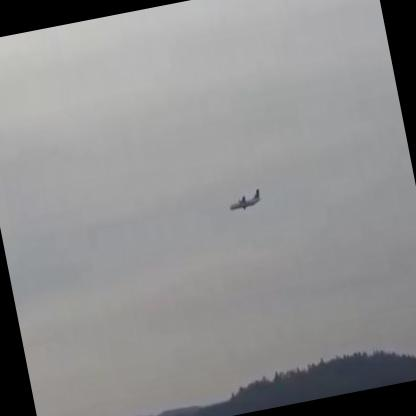plane: (227, 187, 263, 213)
